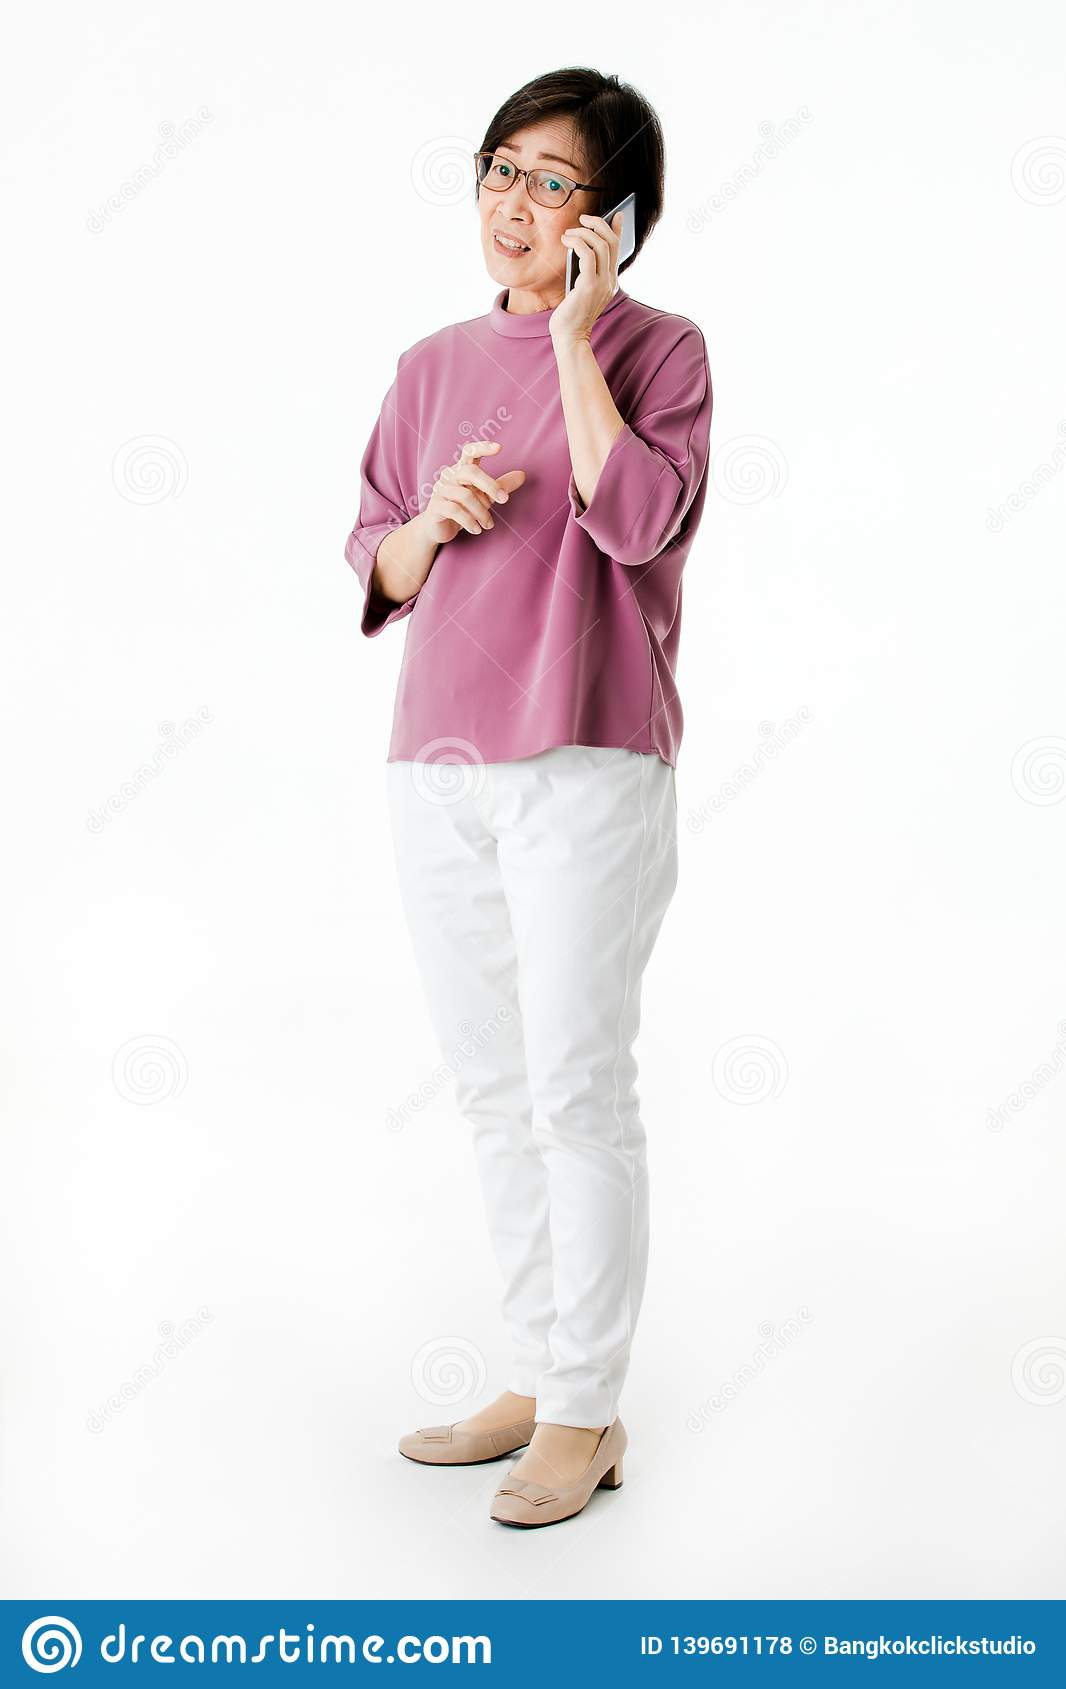phone: (562, 196, 637, 296)
talk: (473, 134, 639, 342)
